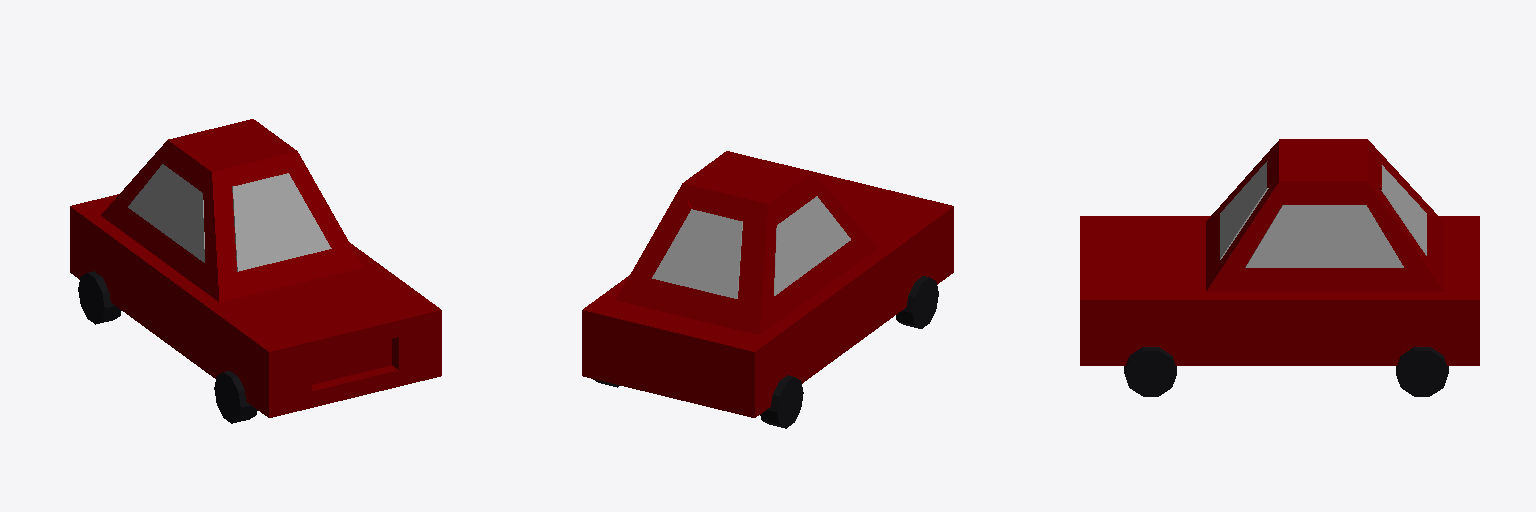
The model's file is CarV2.obj.
3 views of the same model, side by side, from view 1: azimuth 30°, elevation 25°; view 2: azimuth 150°, elevation 25°; view 3: azimuth 270°, elevation 25° (orthographic).
Visible parts, largest first — view 1: Cube.001; view 2: Cube.001; view 3: Cube.001.
Boxes of the visible parts, x1=… form: Cube.001: x1=70, y1=119, x2=441, y2=423; Cube.001: x1=582, y1=151, x2=953, y2=428; Cube.001: x1=1080, y1=139, x2=1479, y2=396.
Size of the model in its own units: 0.4059 by 0.3936 by 0.75.